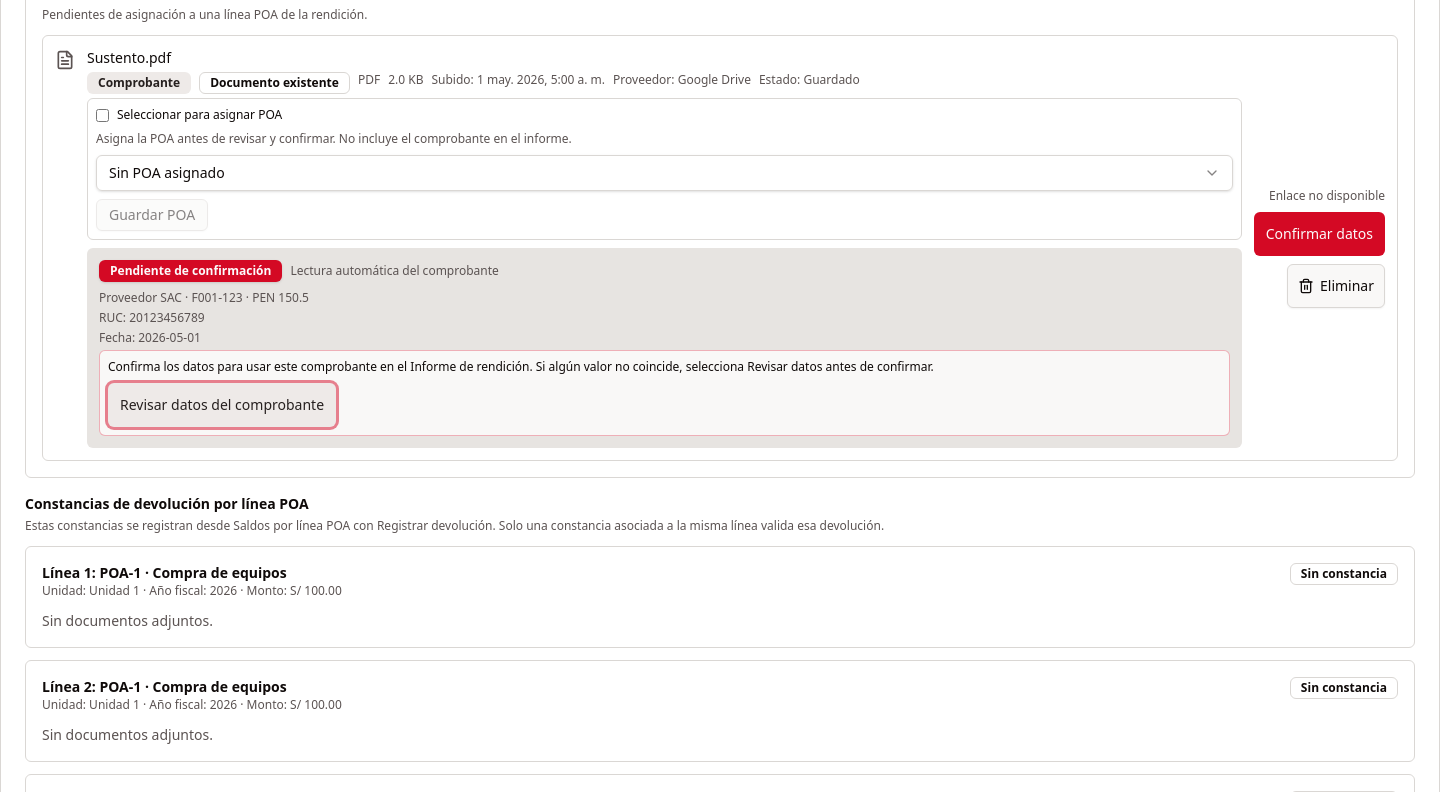
Test: RequestDocumentsCard › individual POA tagging uses all settlement UUID options and reconciles the real PATCH without uploading
(page scrolled)
Click the dropdown named "POA de Sustento.pdf": (167, 172) [96,155,1233,191]
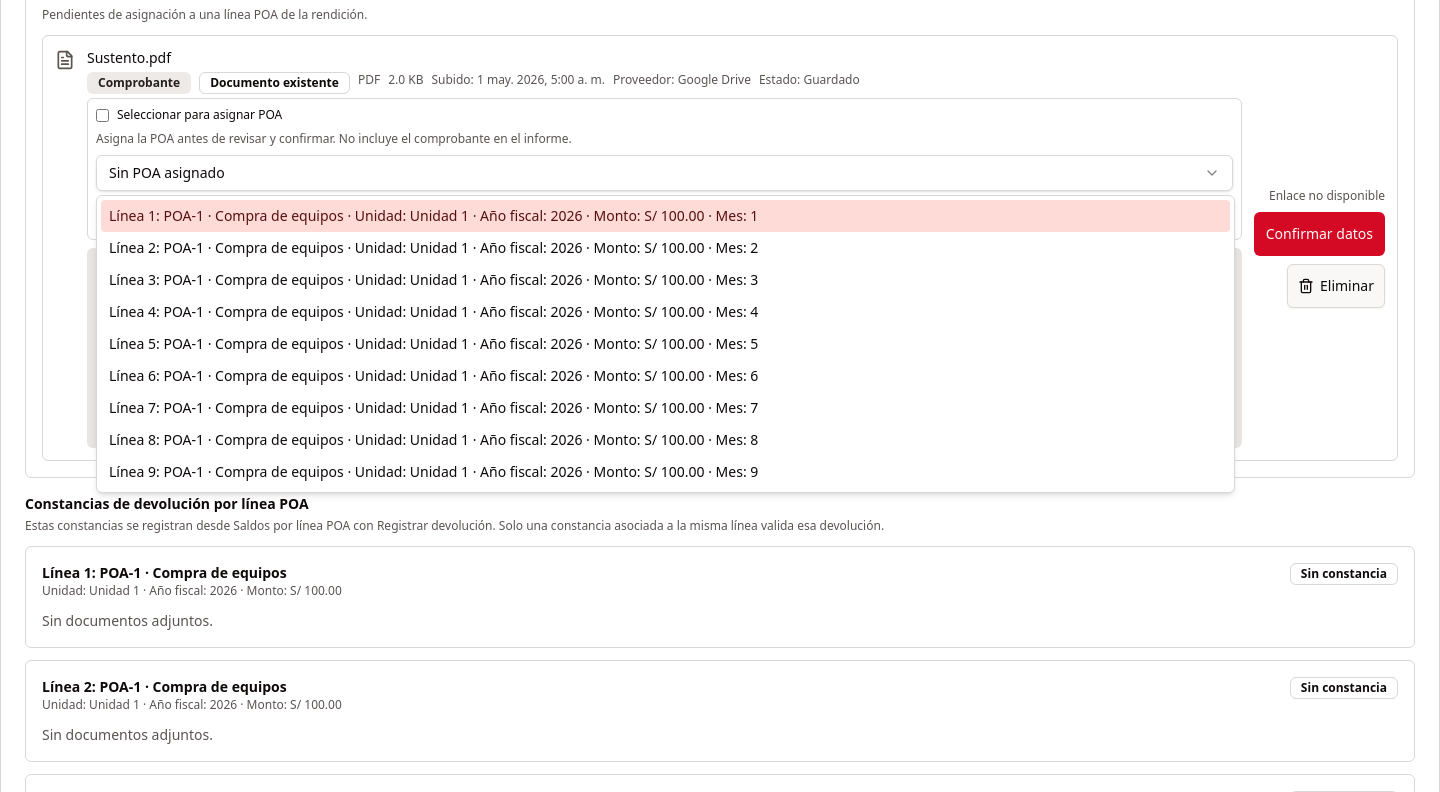
Check: the number of options is 9
Check: the 9th option is shown
Click the option "Línea 9:": (434, 472) [109,462,758,481]
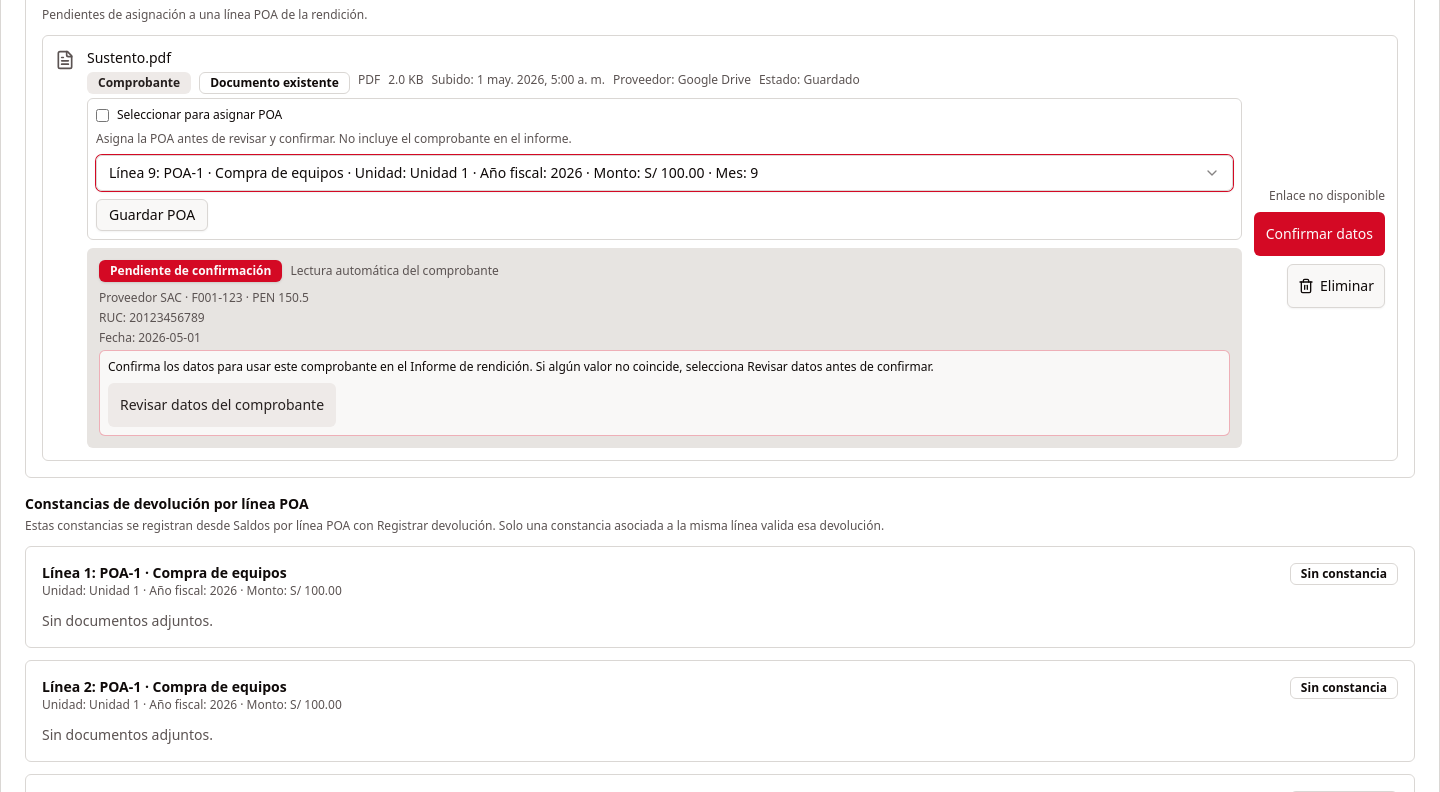
Click the button with aria-label "Guardar POA de Sustento.pdf": (152, 215) [96,199,208,231]
(page scrolled)
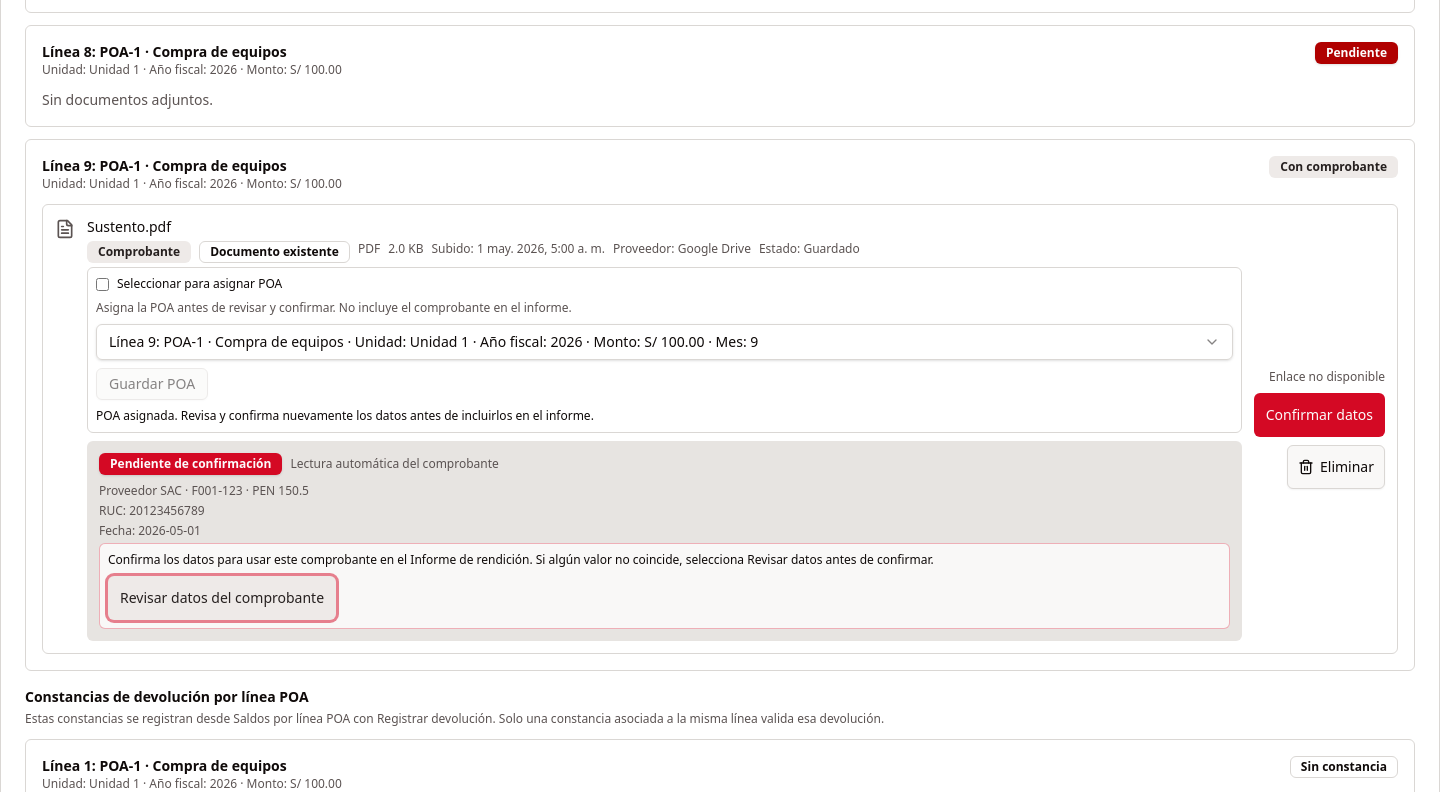
Check: the element with test id "settlement-receipt-group" shows "Sustento.pdf", box [87,217,171,236]
